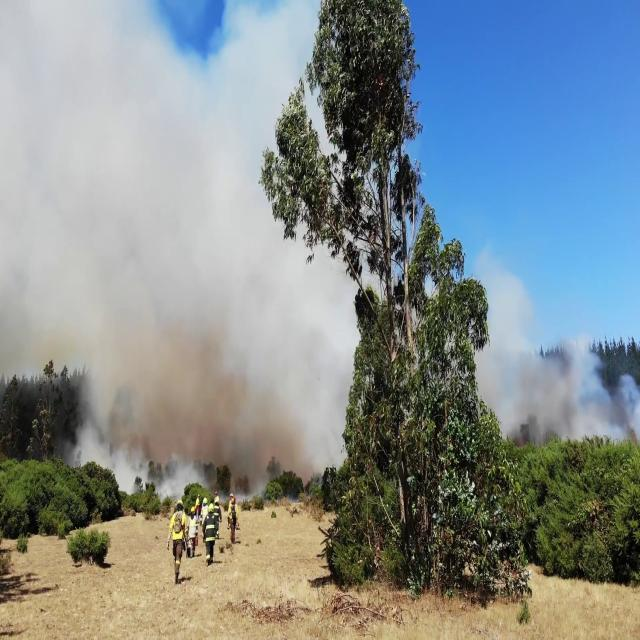Smoke: (14, 19, 354, 489), (474, 286, 640, 448)
